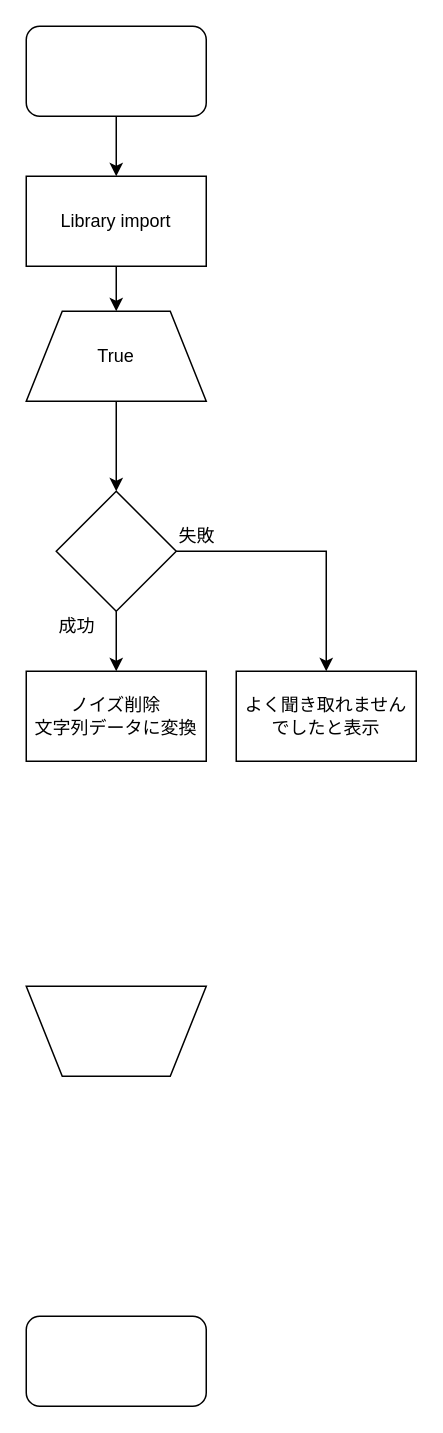
This 443x1433 diagram has some shape labels left out. The centre of each missing label's shape, as x and y in pixels:
"Start" belongs at (x=115, y=70).
"音声認識" belongs at (x=115, y=550).
